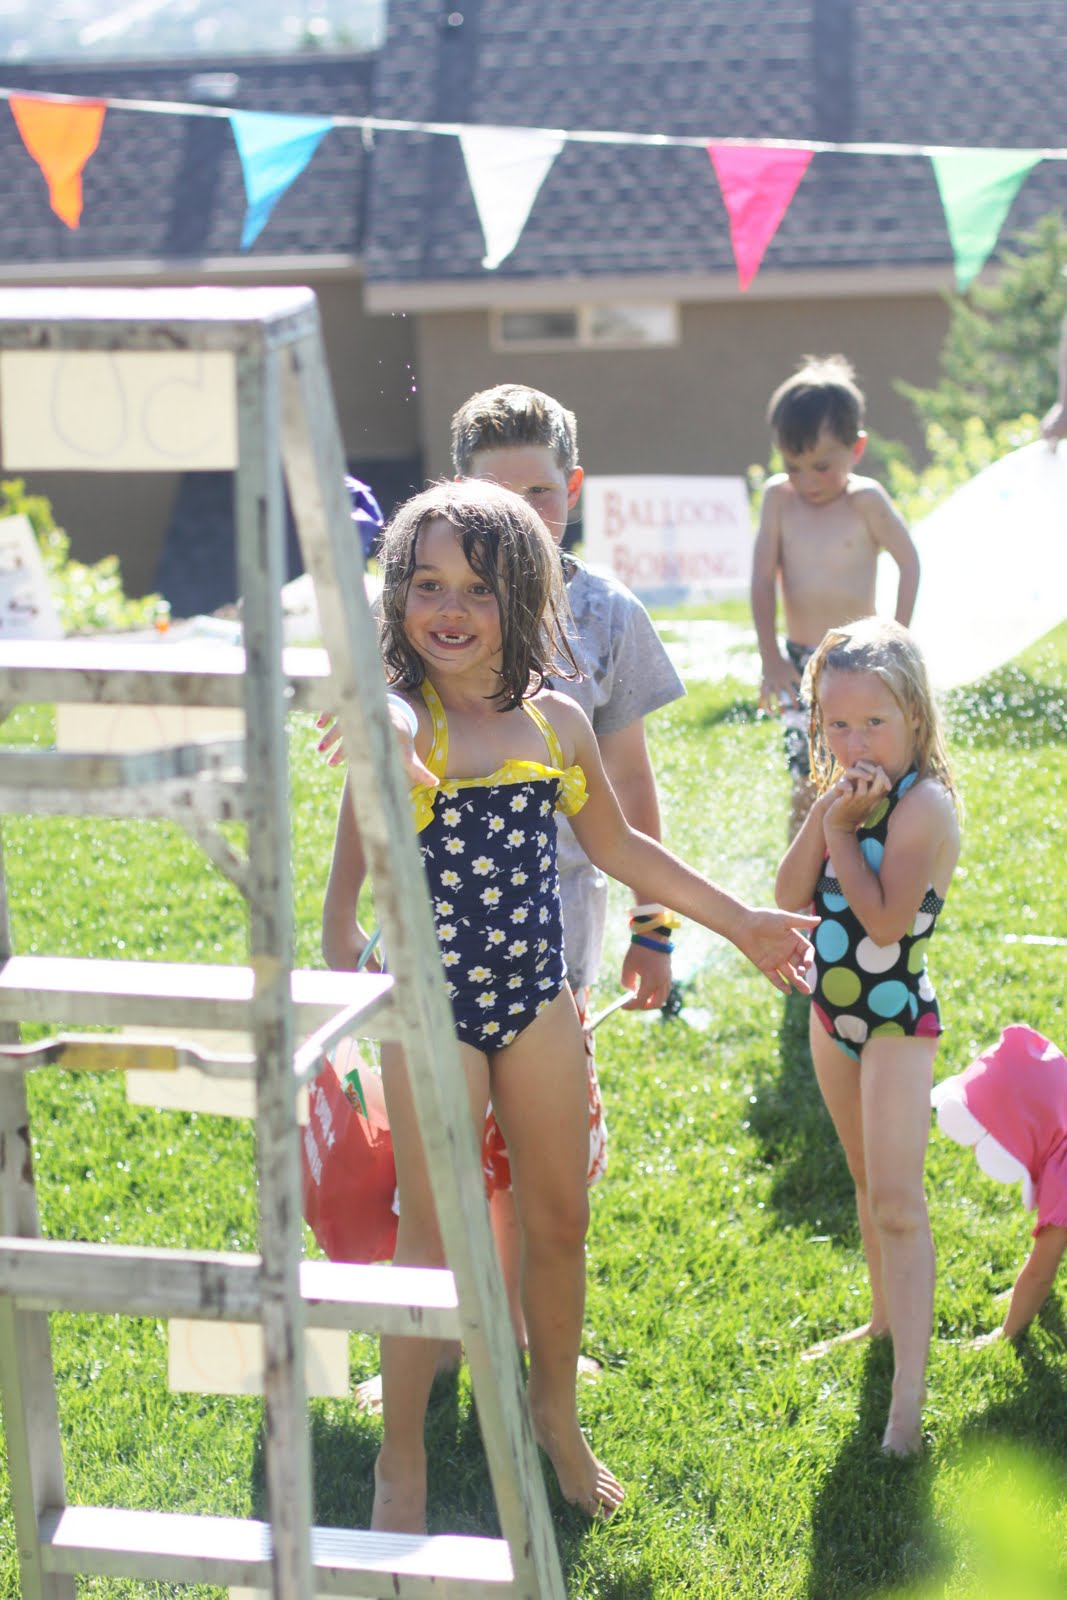Person: (334, 478, 808, 1531), (413, 373, 695, 1154), (753, 617, 992, 1489), (729, 362, 958, 910), (932, 1010, 1067, 1396)
